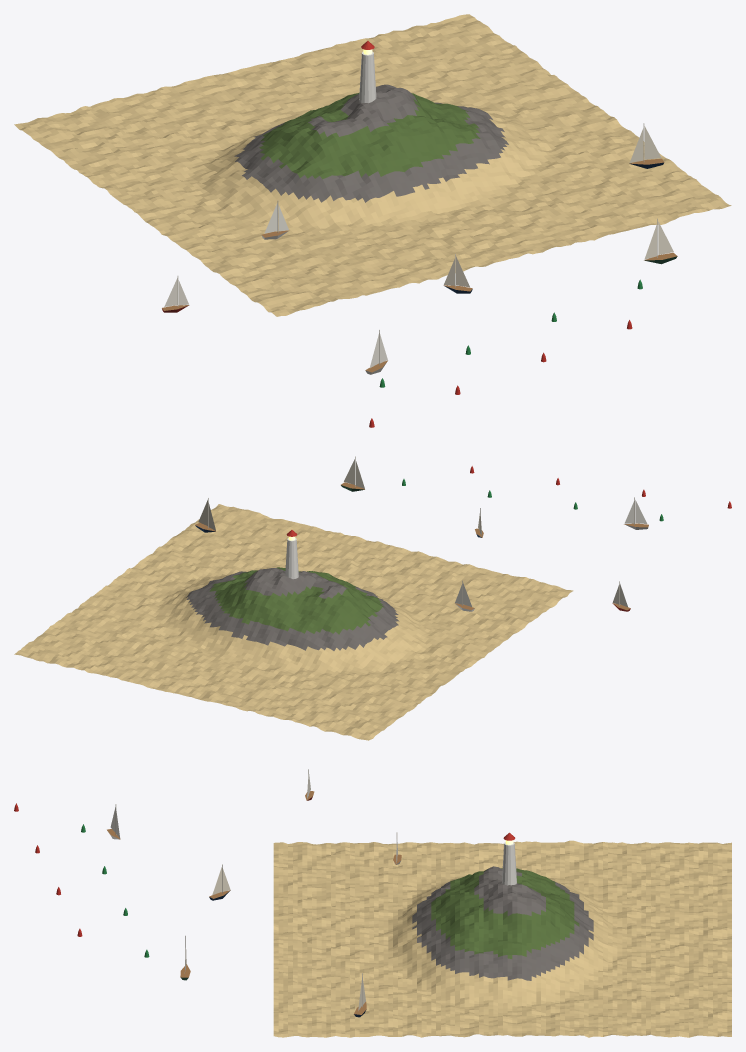
File: world.glb
3 views of the same model, one above another, from view 1: azimuth 30°, elevation 25°; view 2: azimuth 150°, elevation 25°; view 3: azimuth 270°, elevation 25° (orthographic). The views are drawn at different scales.
Visible parts, largest first — view 1: Islet, Sailboat.5, Sailboat.3, Lighthouse; view 2: Islet, Lighthouse; view 3: Islet, Lighthouse.
Boxes of the visible parts, x1,y1,x2,y2 form: Islet: [14, 14, 731, 316]; Sailboat.5: [629, 123, 664, 168]; Sailboat.3: [644, 218, 677, 264]; Lighthouse: [359, 51, 376, 103]; Islet: [14, 504, 573, 740]; Lighthouse: [285, 538, 298, 579]; Islet: [273, 840, 731, 1037]; Lighthouse: [502, 842, 516, 885].
Size of the model in its own units: 157 by 34.04 by 204.
